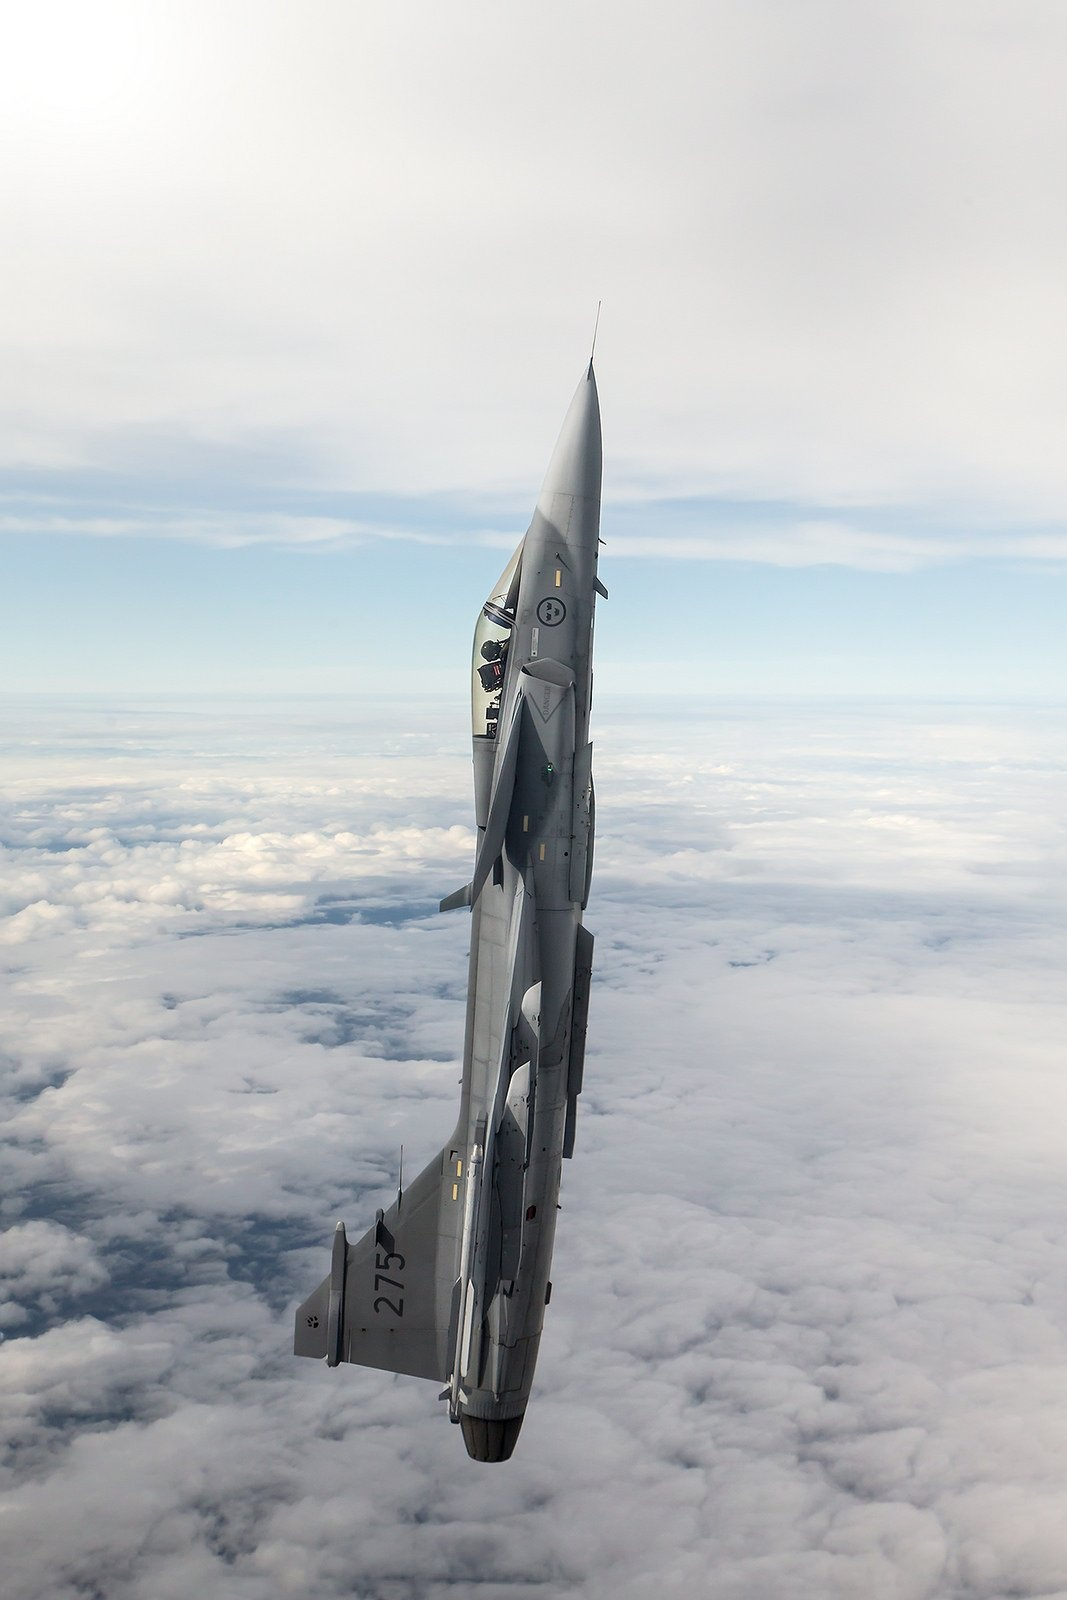JAS39: (293, 300, 609, 1463)
